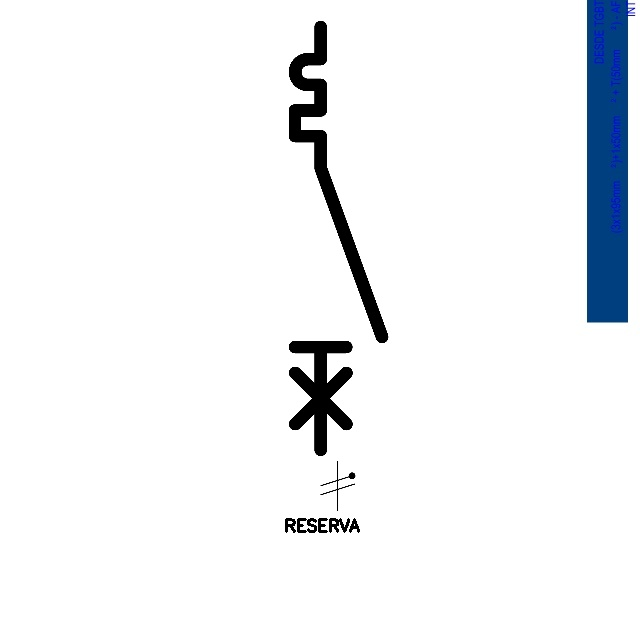interruptor_termomagnetico: (284, 16, 393, 460)
